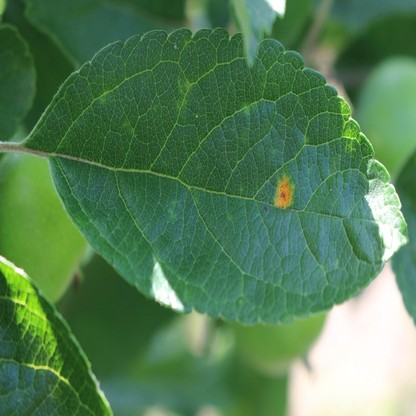rust: (274, 173, 294, 207)
